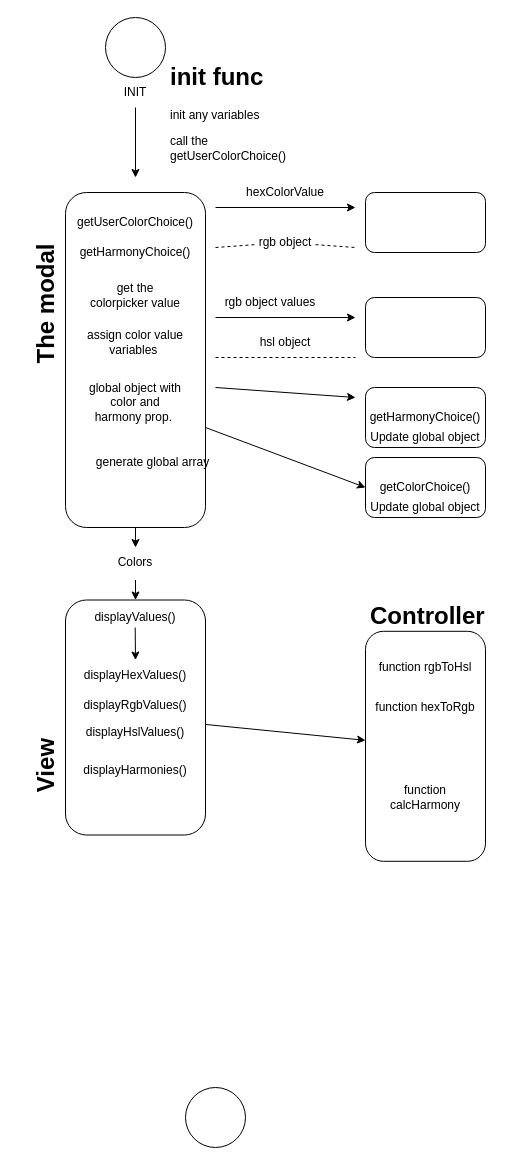
This 513x1165 diagram has some shape labels left out. The centre of each missing label's shape, as x and y in pixels:
hexToRgb: (x=425, y=222)
rgbToHsl: (x=425, y=327)
